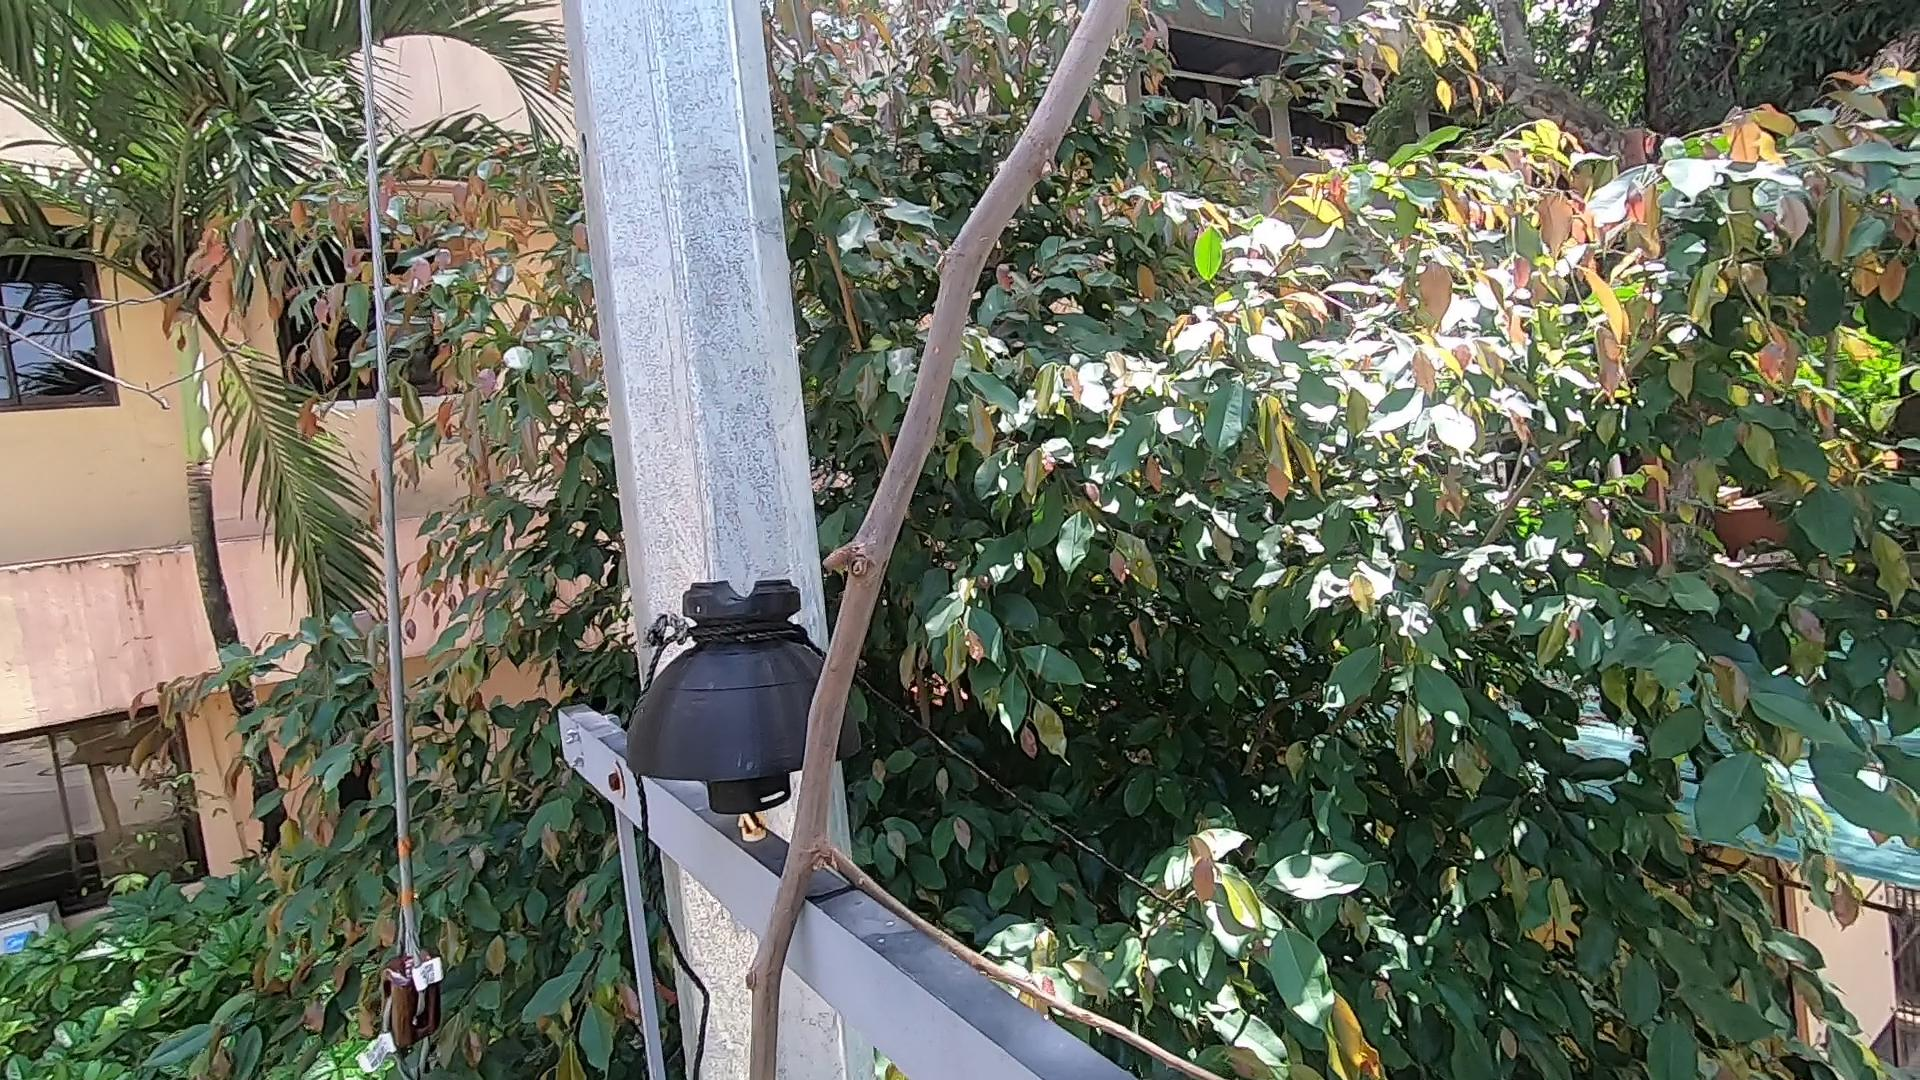tree branch: (719, 1, 1069, 1077)
